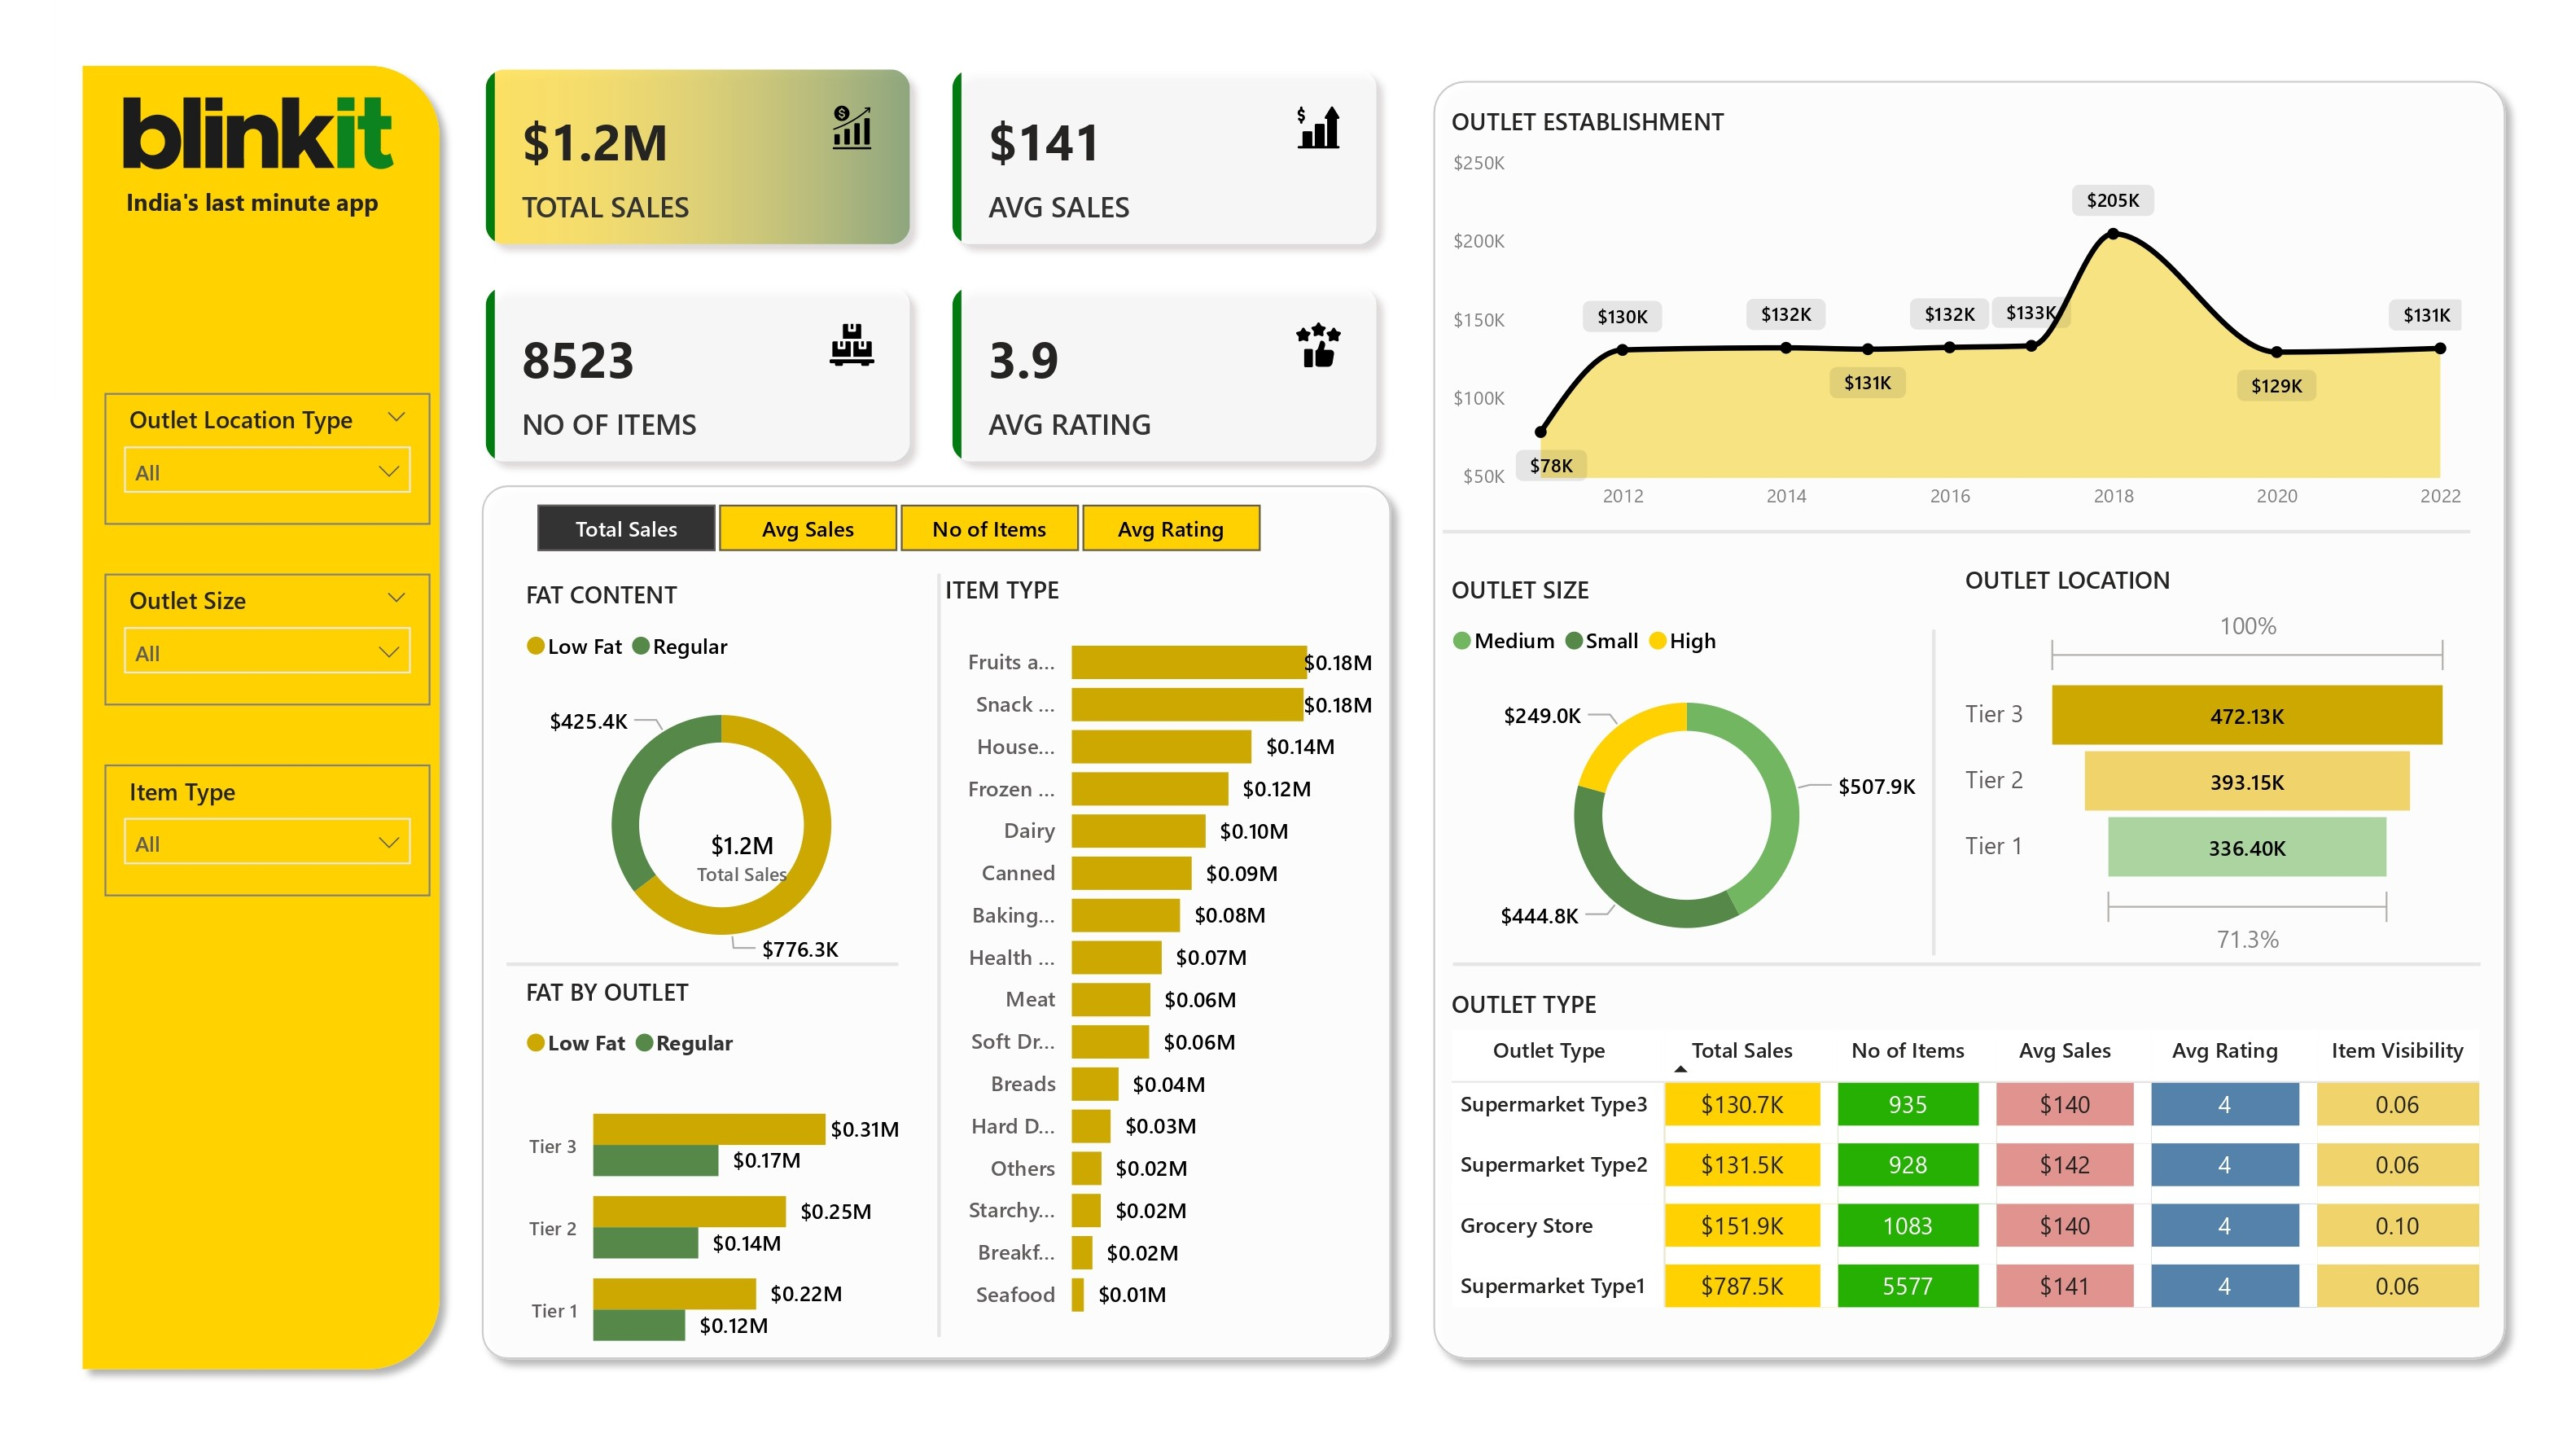

The dashboard page shown, as its layout file describes it:
{"tool":"powerbi","page":{"name":"Page 1","canvas":[1400,800],"ordinal":0},"visuals":[{"type":"shape","box":[8.6,0,218.6,750],"z":0},{"type":"textbox","box":[34.3,102.9,158.6,32.9],"z":1000},{"type":"image","box":[17.1,40,192.9,80],"z":2000},{"type":"cardVisual","fields":{"Data":["BlinkIT Grocery Data.Total Sales","BlinkIT Grocery Data.Avg Sales","BlinkIT Grocery Data.No of Items","BlinkIT Grocery Data.Avg Rating"]},"box":[224.3,25.7,534.3,254.3],"z":3000},{"type":"shape","box":[230,267.1,528.6,508.6],"z":4000},{"type":"donutChart","title":"FAT CONTENT","fields":{"Y":["BlinkIT Grocery Data.Total Sales"],"Category":["BlinkIT Grocery Data.Item Fat Content"]},"box":[258.6,328.6,230,230],"z":5000},{"type":"slicer","fields":{"Values":["Metric.Metric"]},"box":[244.3,280,455.7,37.1],"z":6000},{"type":"cardVisual","fields":{"Data":["BlinkIT Grocery Data.Total Sales"]},"box":[332.9,451.4,105.7,58.6],"z":7000},{"type":"clusteredBarChart","title":"FAT BY OUTLET","fields":{"Y":["BlinkIT Grocery Data.Total Sales"],"Category":["BlinkIT Grocery Data.Outlet Location Type"],"Series":["BlinkIT Grocery Data.Item Fat Content"]},"box":[258.6,551.4,220,230],"z":8000},{"type":"shape","box":[252.9,538.6,220,12.9],"z":9000},{"type":"shape","box":[475.7,325.7,40,428.6],"z":10000},{"type":"barChart","title":"ITEM TYPE","fields":{"Y":["BlinkIT Grocery Data.Total Sales"],"Category":["BlinkIT Grocery Data.Item Type"]},"box":[494.3,325.7,250,428.6],"z":11000},{"type":"shape","box":[764.3,40,620,735.7],"z":12000},{"type":"lineChart","title":"OUTLET ESTABLISHMENT","fields":{"Category":["BlinkIT Grocery Data.Outlet Establishment Year"],"Y":["BlinkIT Grocery Data.Total Sales"]},"box":[778.6,62.9,577.1,235.7],"z":13000},{"type":"shape","box":[778.6,287.1,577.1,30],"z":14000},{"type":"donutChart","title":"OUTLET SIZE","fields":{"Y":["BlinkIT Grocery Data.Total Sales"],"Category":["BlinkIT Grocery Data.Outlet Size"]},"box":[778.6,325.7,274,225],"z":15000},{"type":"shape","box":[1034.3,357.1,40,182.9],"z":16000},{"type":"funnel","title":"OUTLET LOCATION","fields":{"Y":["Sum(BlinkIT Grocery Data.Sales)"],"Category":["BlinkIT Grocery Data.Outlet Location Type"]},"box":[1067.1,320,282.9,225.7],"z":17000},{"type":"shape","box":[784.3,530,577.1,30],"z":18000},{"type":"pivotTable","title":"OUTLET TYPE","fields":{"Rows":["BlinkIT Grocery Data.Outlet Type"],"Values":["BlinkIT Grocery Data.Total Sales","BlinkIT Grocery Data.No of Items","BlinkIT Grocery Data.Avg Sales","BlinkIT Grocery Data.Avg Rating","Avg(BlinkIT Grocery Data.Item Visibility)"]},"box":[778.6,558.6,605.7,195.7],"z":19000},{"type":"slicer","fields":{"Values":["BlinkIT Grocery Data.Outlet Location Type"]},"box":[27.1,224.3,182.9,74.3],"z":20000},{"type":"slicer","fields":{"Values":["BlinkIT Grocery Data.Outlet Size"]},"box":[27.1,325.7,182.9,74.3],"z":21000},{"type":"slicer","fields":{"Values":["BlinkIT Grocery Data.Item Type"]},"box":[27.1,432.9,182.9,74.3],"z":22000}]}

Visuals, with their boxes in screenshot pixels (x1, y1, x2, y2), scaled from the page's 1400x800 canvas onto the 2576x1438 screenshot:
shape: locate(15, 0, 418, 1348)
textbox: locate(64, 185, 355, 244)
image: locate(32, 72, 387, 216)
cardVisual - BlinkIT Grocery Data.Total Sales x BlinkIT Grocery Data.Avg Sales: locate(413, 46, 1395, 503)
shape: locate(423, 480, 1395, 1394)
"FAT CONTENT" donutChart: locate(475, 590, 899, 1004)
slicer - Metric.Metric: locate(449, 503, 1288, 570)
cardVisual - BlinkIT Grocery Data.Total Sales: locate(612, 811, 807, 917)
"FAT BY OUTLET" clusteredBarChart: locate(475, 991, 881, 1405)
shape: locate(466, 968, 870, 991)
shape: locate(875, 585, 948, 1356)
"ITEM TYPE" barChart: locate(909, 585, 1369, 1356)
shape: locate(1406, 72, 2548, 1394)
"OUTLET ESTABLISHMENT" lineChart: locate(1433, 113, 2495, 537)
shape: locate(1433, 516, 2495, 570)
"OUTLET SIZE" donutChart: locate(1433, 585, 1937, 990)
shape: locate(1904, 642, 1977, 971)
"OUTLET LOCATION" funnel: locate(1964, 575, 2484, 981)
shape: locate(1444, 953, 2505, 1006)
"OUTLET TYPE" pivotTable: locate(1433, 1004, 2548, 1356)
slicer - BlinkIT Grocery Data.Outlet Location Type: locate(50, 403, 387, 537)
slicer - BlinkIT Grocery Data.Outlet Size: locate(50, 585, 387, 719)
slicer - BlinkIT Grocery Data.Item Type: locate(50, 778, 387, 912)
